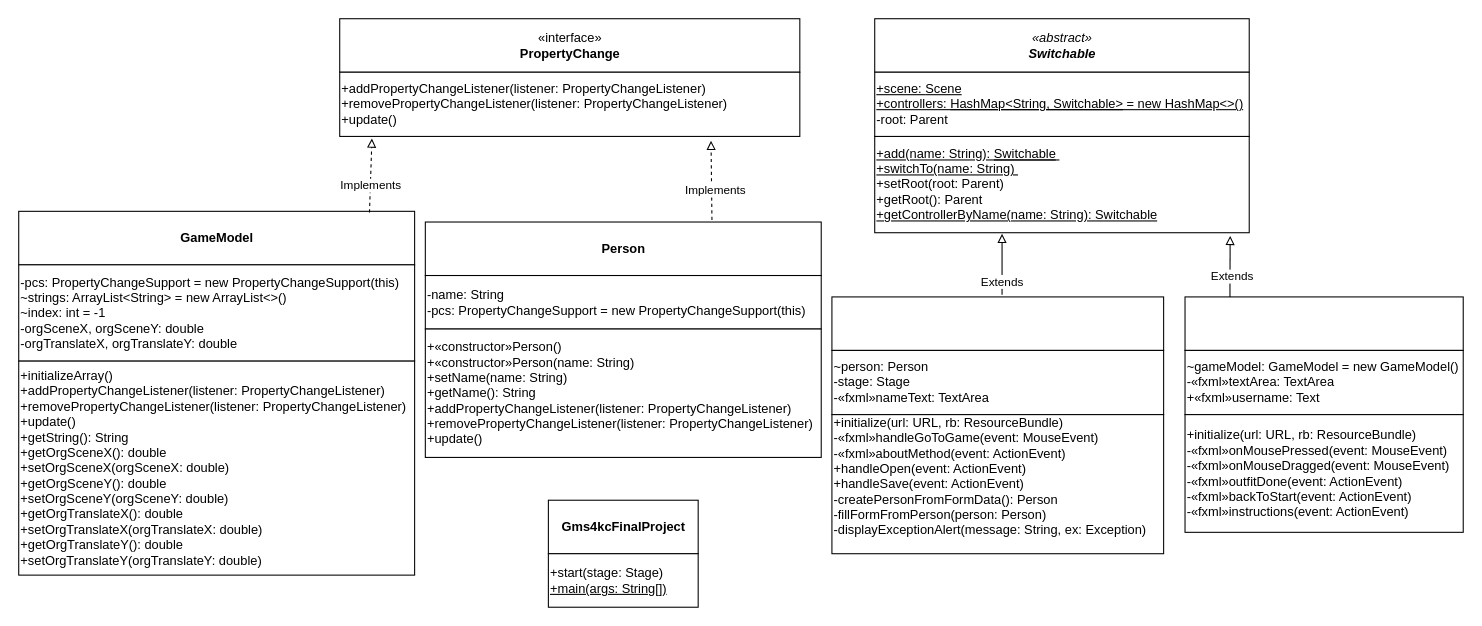
The diagram is 1482 pixels wide and 626 high, and some of its shapes have lost their labels. The box of each missing label's shape, as (x1, y1, x2, y2) in pixels:
GameController: (1184, 296, 1463, 350)
StartController: (831, 296, 1164, 350)
